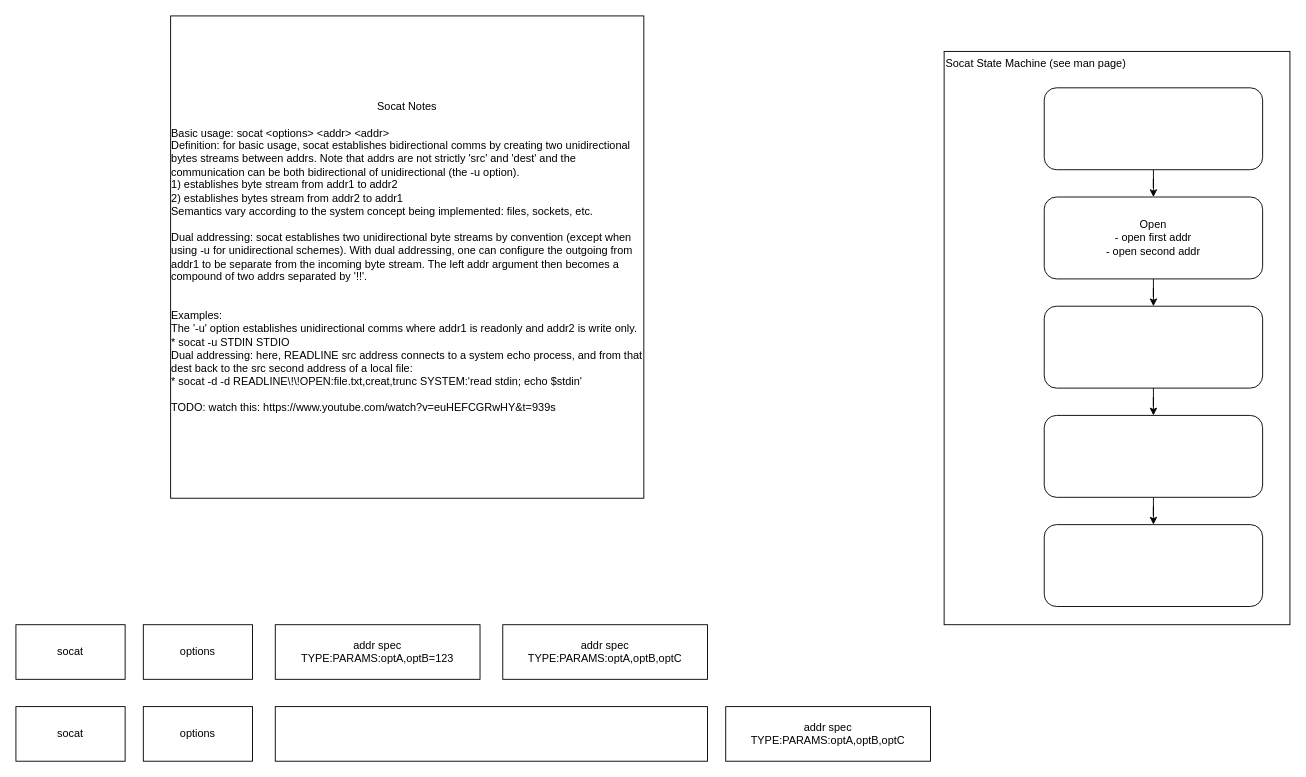
Image size: 1306x777. Some labels were removed from this diagram. The centre of each missing label's shape, as x and y in pixels:
dual addr spec TYPE:PARAMS:optA,optB,optC!! TYPE:PARAMS:optA,optB,optC: the point at 491,733
Exit codes - ??? appears these are undefined: the point at 1153,565
Init - Parse command line options - init logging: the point at 1153,128
Shutdown - EOF received from any addr - close addrs: the point at 1153,456
Transfer - watch addrs using select - call read/write to link byte streams: the point at 1153,346
